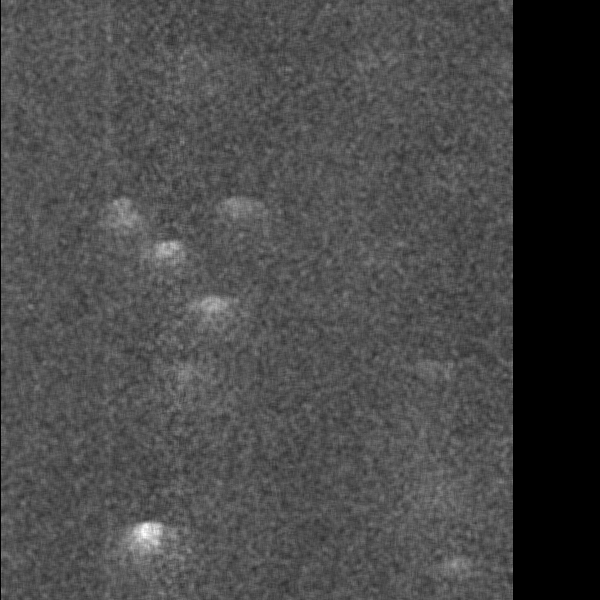spark: (120, 520, 171, 584), (145, 235, 194, 294), (96, 190, 141, 239), (222, 191, 257, 241), (191, 290, 232, 330), (442, 550, 466, 576)
